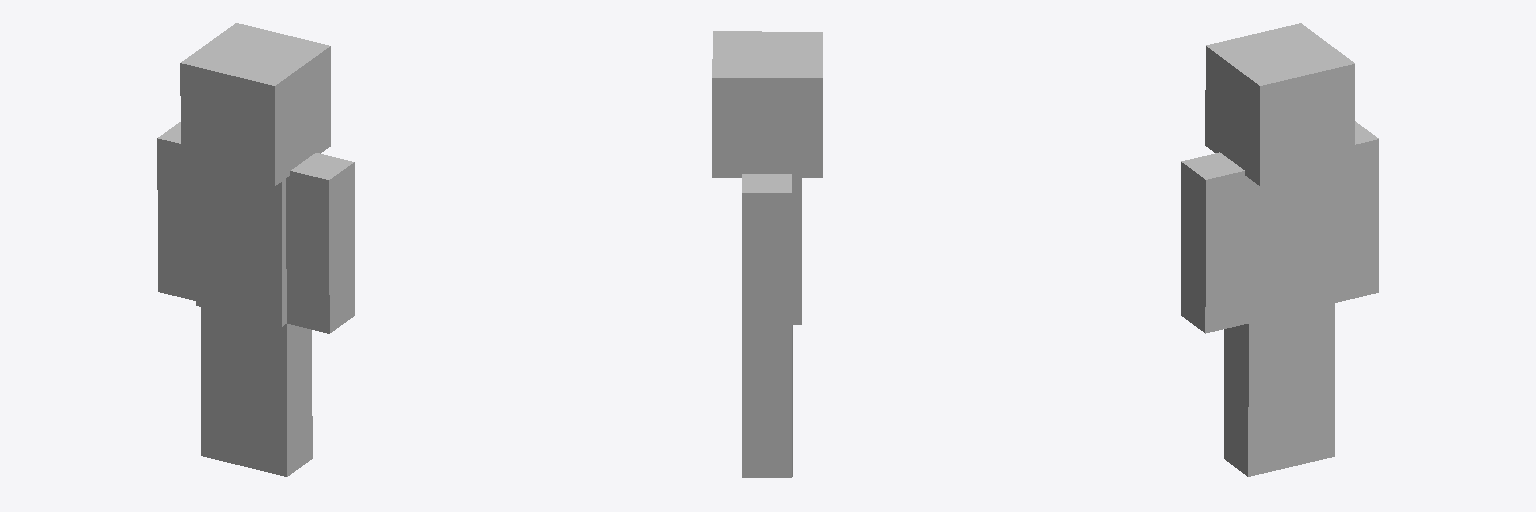
The model's file is smith1.obj.
3 renders of one model, left to right at view 1: azimuth 30°, elevation 25°; view 2: azimuth 150°, elevation 25°; view 3: azimuth 270°, elevation 25°, orthographic.
Parts seen in each view (by area): view 1: Player_Cube; view 2: Player_Cube; view 3: Player_Cube.
Boxes of the visible parts, x1=… form: Player_Cube: x1=157, y1=23, x2=354, y2=476; Player_Cube: x1=712, y1=31, x2=822, y2=477; Player_Cube: x1=1181, y1=23, x2=1378, y2=476.
Bounding box in the file's own units: 0.6034 × 1.79 × 0.7974.